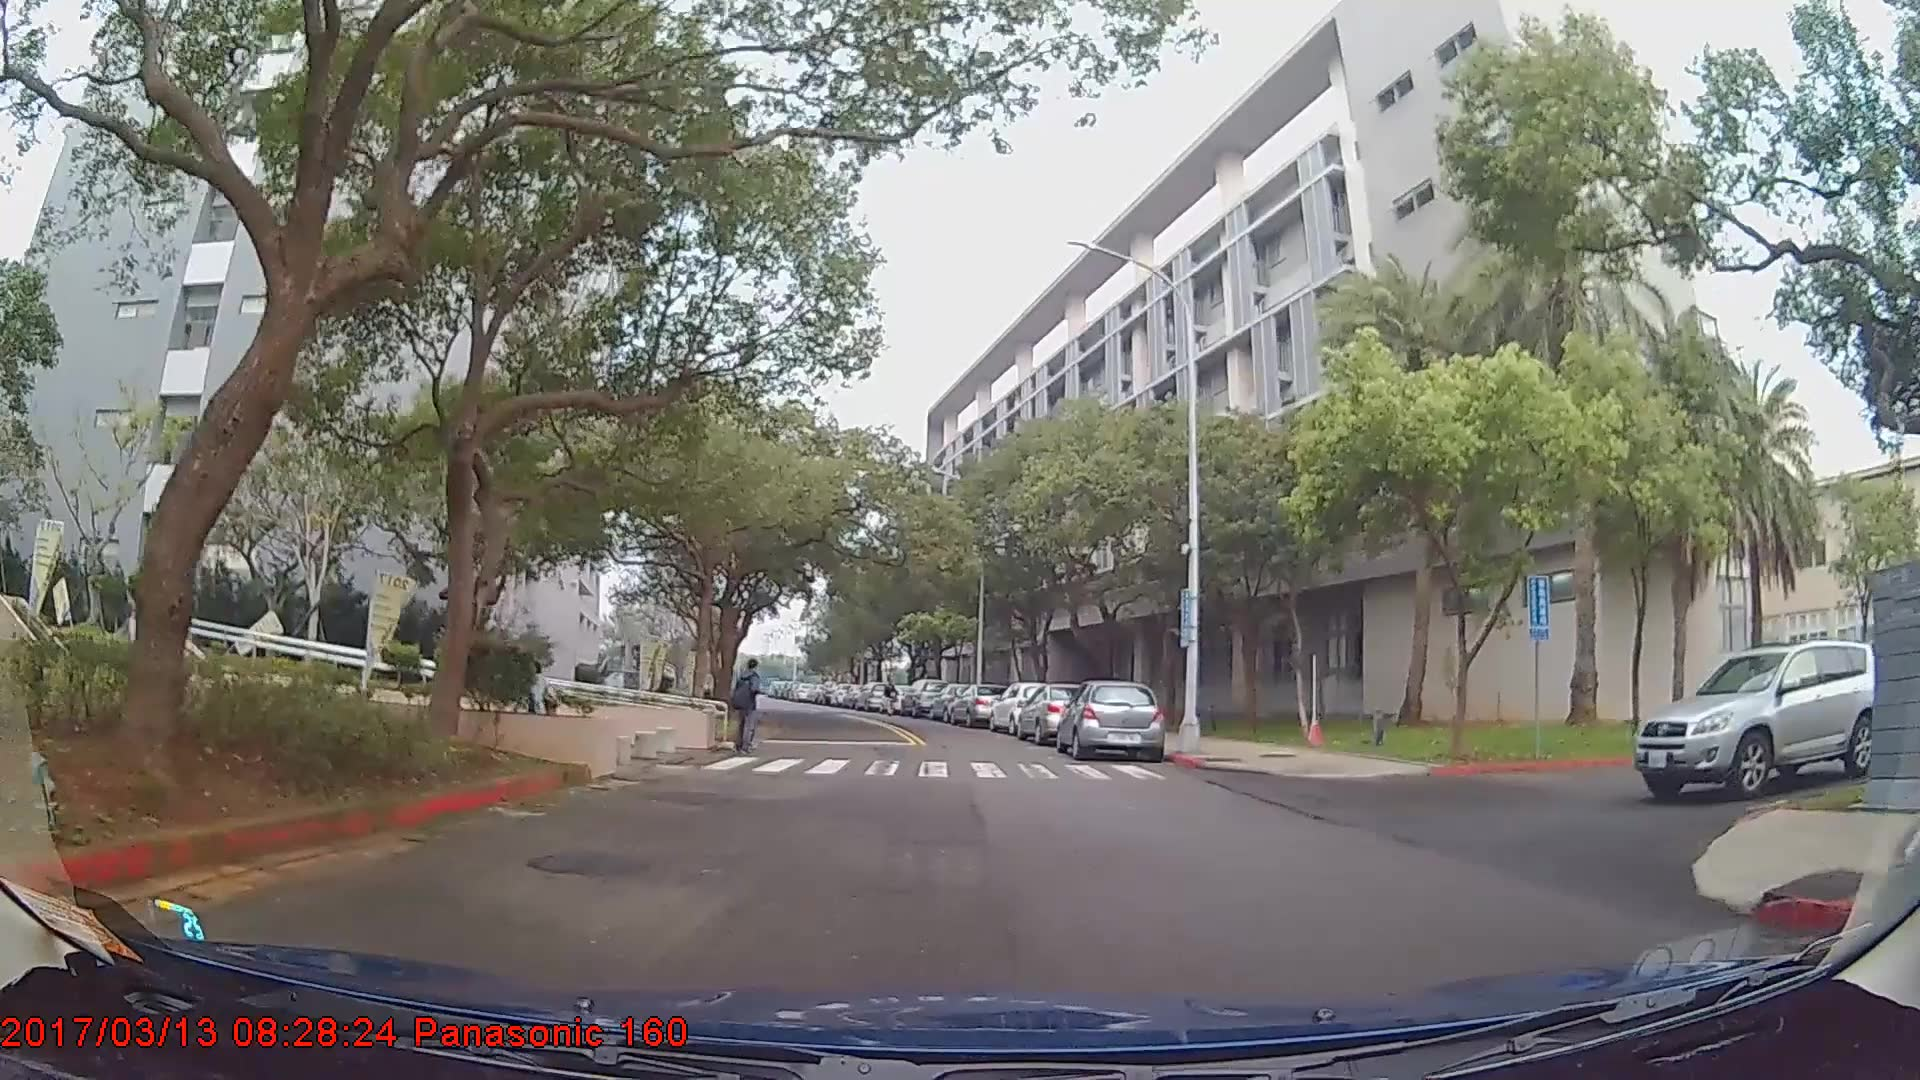pedestrian: (731, 659, 770, 761), (523, 661, 561, 752), (881, 675, 901, 718)
vehicle: (1633, 637, 1877, 800), (1055, 679, 1166, 760), (1014, 682, 1099, 746), (986, 682, 1061, 735), (948, 683, 1010, 730), (899, 679, 947, 718)
